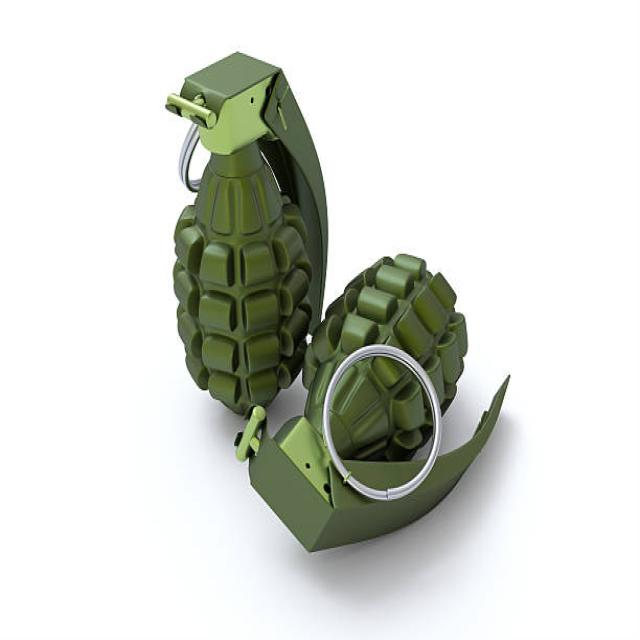grenade: (229, 242, 520, 559), (158, 46, 335, 420)
